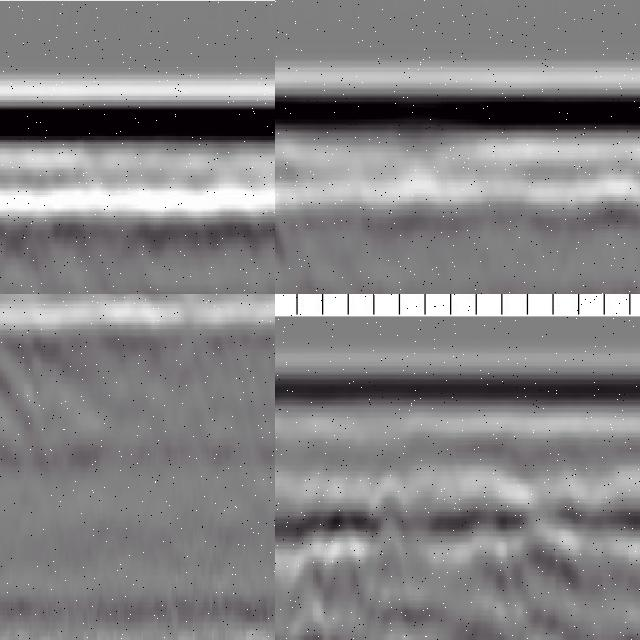crack: (276, 180, 294, 295)
loose: (276, 482, 591, 640)
